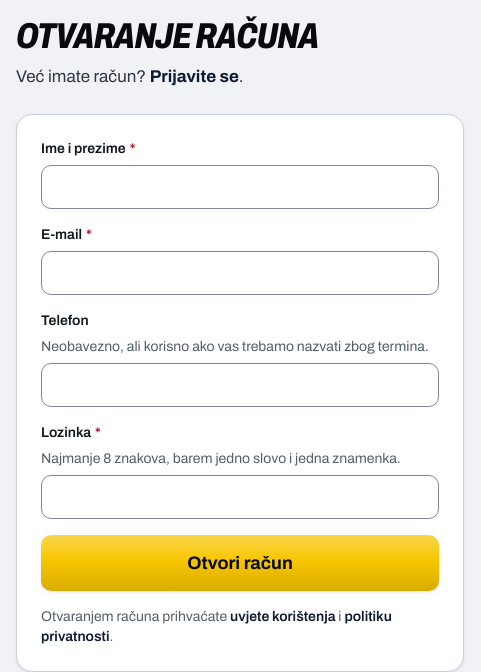
Scenario: obrazac za otvaranje računa › traži znamenku u lozinci
Step 1. Type "Ivan Horvat" into the field labelled "Ime i prezime*" → (240, 186), box [41,164,439,208]
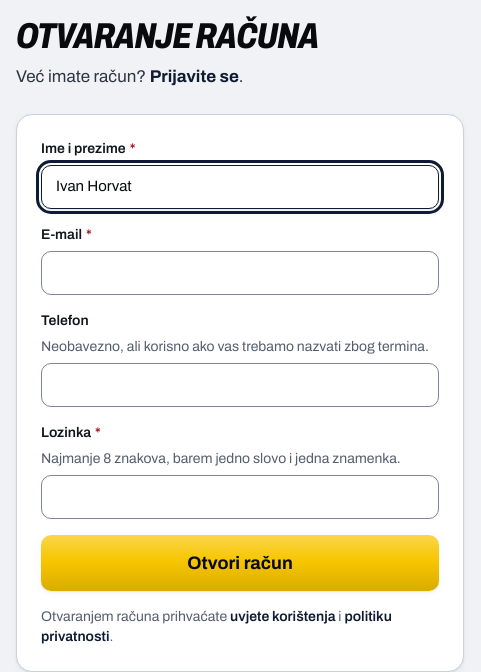
Step 2. Type "ivan@primjer.hr" into the field labelled "E-mail*" → (240, 272), box [41,250,439,294]
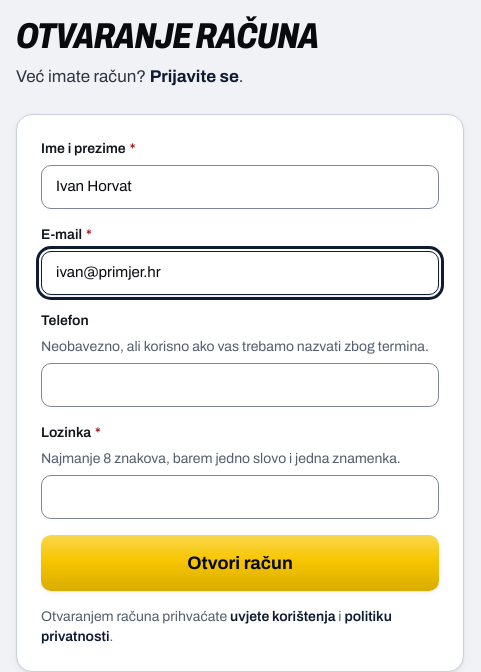
Step 3. Type "samoslova" into the password field labelled "Lozinka*" → (240, 496), box [41,474,439,518]
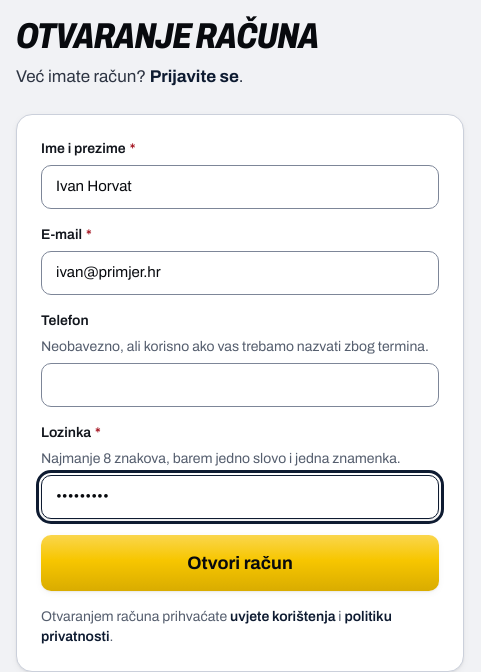
Step 4. Click the button "Otvori račun" → (240, 562), box [41,534,439,590]
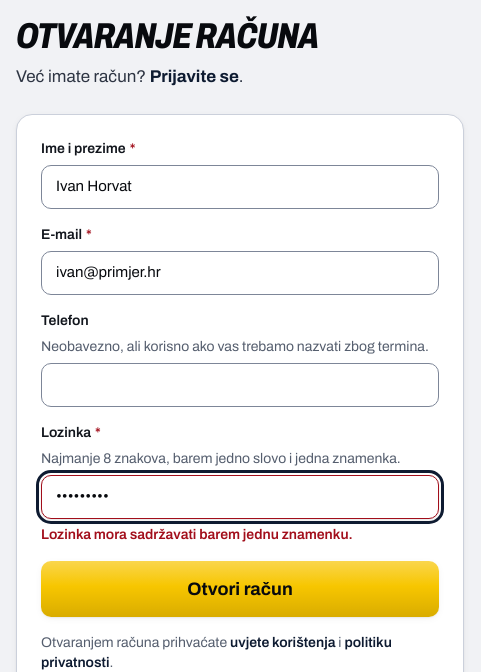
Check: the text "Lozinka mora sadržavati barem jednu znamenku." is shown, box [41,526,353,542]
